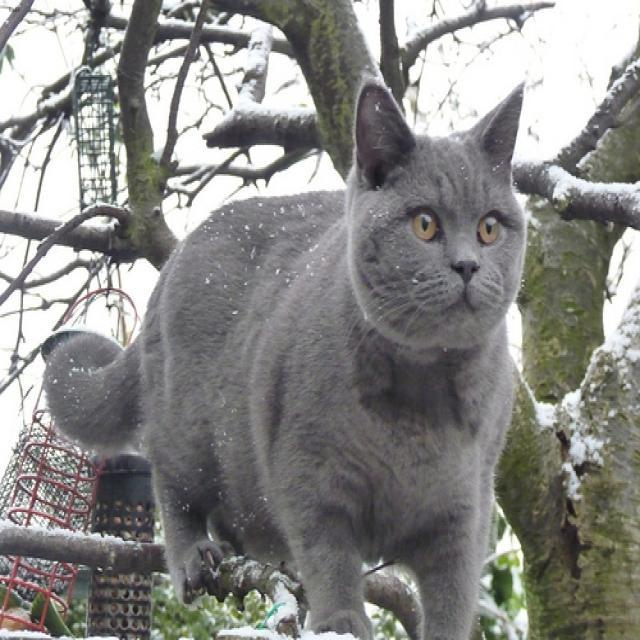British_Shorthair: (345, 66, 533, 357)
